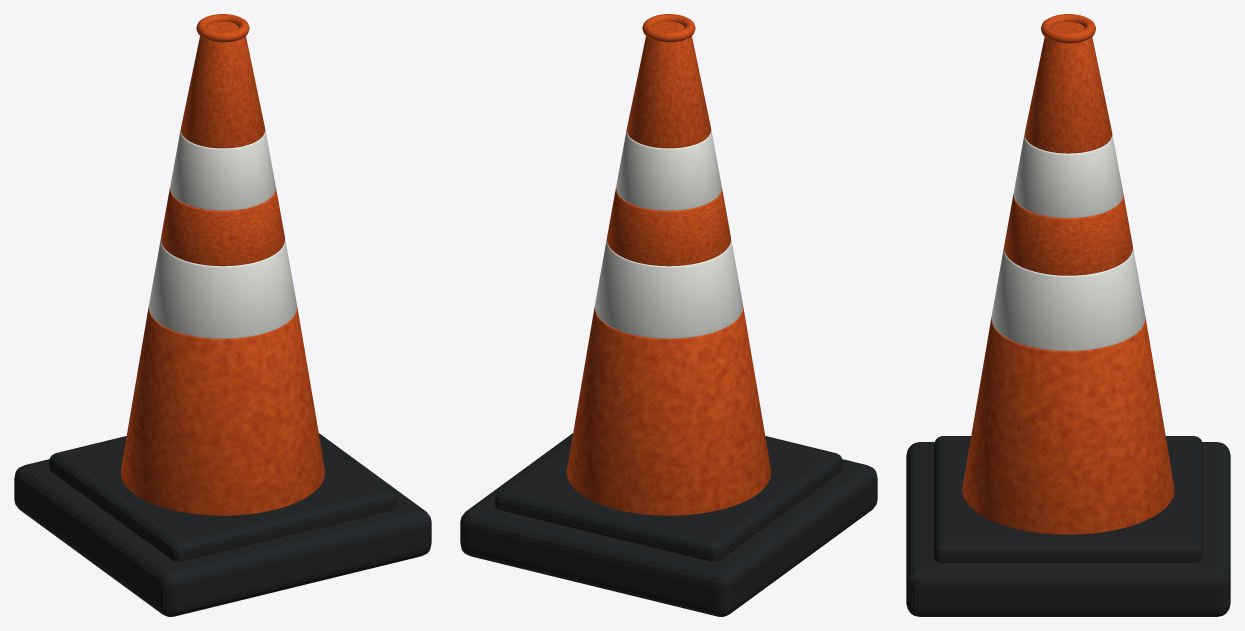
File: Traffic Cone_Textured.glb
3 views of the same model, side by side, from view 1: azimuth 30°, elevation 25°; view 2: azimuth 150°, elevation 25°; view 3: azimuth 270°, elevation 25° (orthographic). The views are drawn at different scales.
Parts seen in each view (by area): view 1: __GLB_Cone_Orange_Lower, __GLB_Cone_Base, __GLB_Cone_Base_Raised, __GLB_Cone_Reflective_Band_Lower, __GLB_Cone_Orange_Top, __GLB_Cone_Orange_Middle, __GLB_Cone_Reflective_Band_Upper, __GLB_Cone_Top_Lip; view 2: __GLB_Cone_Orange_Lower, __GLB_Cone_Base, __GLB_Cone_Base_Raised, __GLB_Cone_Reflective_Band_Lower, __GLB_Cone_Orange_Top, __GLB_Cone_Orange_Middle, __GLB_Cone_Reflective_Band_Upper, __GLB_Cone_Top_Lip; view 3: __GLB_Cone_Orange_Lower, __GLB_Cone_Base, __GLB_Cone_Base_Raised, __GLB_Cone_Reflective_Band_Lower, __GLB_Cone_Orange_Top, __GLB_Cone_Orange_Middle, __GLB_Cone_Reflective_Band_Upper, __GLB_Cone_Top_Lip.
Part boxes in pixels (x1=…): __GLB_Cone_Orange_Lower: x1=120, y1=307, x2=325, y2=515; __GLB_Cone_Base: x1=14, y1=433, x2=431, y2=616; __GLB_Cone_Base_Raised: x1=49, y1=436, x2=396, y2=561; __GLB_Cone_Reflective_Band_Lower: x1=148, y1=239, x2=297, y2=338; __GLB_Cone_Orange_Top: x1=180, y1=21, x2=265, y2=148; __GLB_Cone_Orange_Middle: x1=161, y1=188, x2=284, y2=266; __GLB_Cone_Reflective_Band_Upper: x1=170, y1=130, x2=275, y2=210; __GLB_Cone_Top_Lip: x1=196, y1=14, x2=249, y2=42; __GLB_Cone_Orange_Lower: x1=566, y1=307, x2=771, y2=515; __GLB_Cone_Base: x1=460, y1=433, x2=877, y2=616; __GLB_Cone_Base_Raised: x1=495, y1=436, x2=842, y2=561; __GLB_Cone_Reflective_Band_Lower: x1=594, y1=239, x2=743, y2=338; __GLB_Cone_Orange_Top: x1=626, y1=21, x2=711, y2=148; __GLB_Cone_Orange_Middle: x1=607, y1=188, x2=730, y2=266; __GLB_Cone_Reflective_Band_Upper: x1=616, y1=130, x2=721, y2=210; __GLB_Cone_Top_Lip: x1=642, y1=14, x2=695, y2=42; __GLB_Cone_Orange_Lower: x1=962, y1=318, x2=1174, y2=534; __GLB_Cone_Base: x1=906, y1=442, x2=1230, y2=616; __GLB_Cone_Base_Raised: x1=934, y1=436, x2=1202, y2=562; __GLB_Cone_Reflective_Band_Lower: x1=991, y1=248, x2=1145, y2=350; __GLB_Cone_Orange_Top: x1=1024, y1=21, x2=1112, y2=153; __GLB_Cone_Orange_Middle: x1=1004, y1=194, x2=1132, y2=275; __GLB_Cone_Reflective_Band_Upper: x1=1013, y1=135, x2=1123, y2=218; __GLB_Cone_Top_Lip: x1=1041, y1=14, x2=1095, y2=43.
Bounding box in the file's own units: 0.44 × 0.7951 × 0.44.
12 materials, 12 textured.
